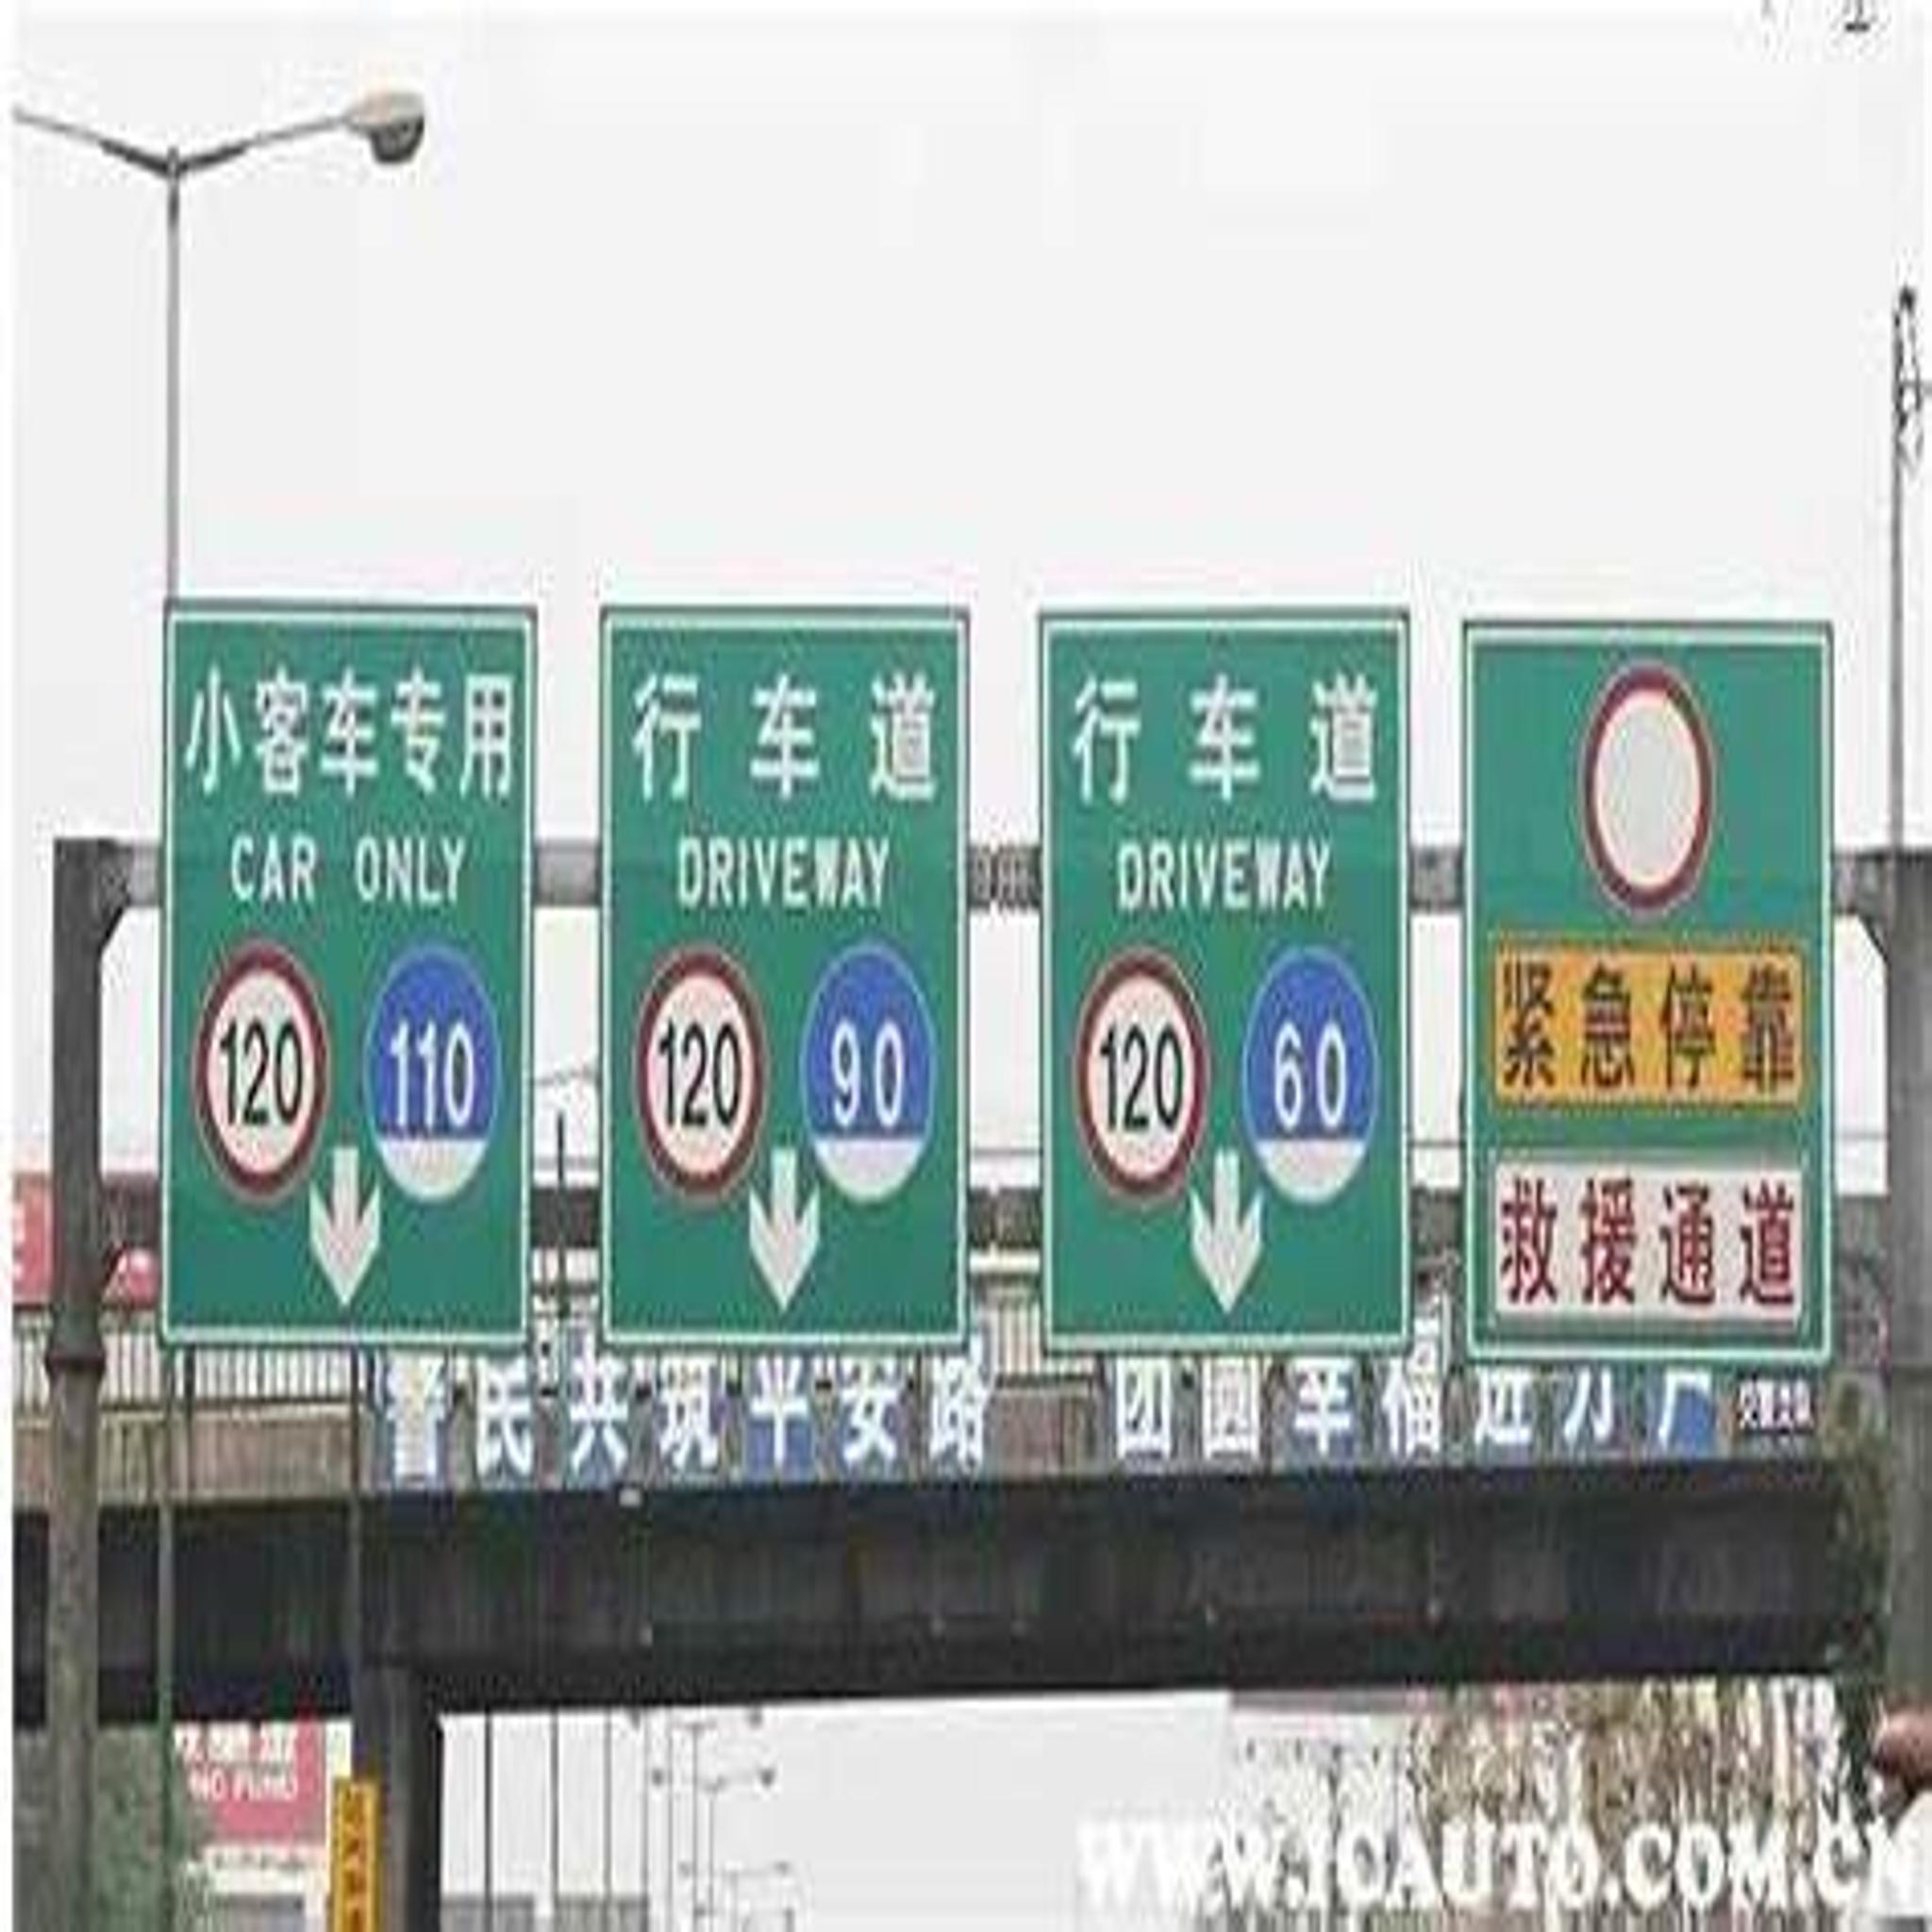il60: (1244, 952, 1385, 1205)
pb: (1580, 662, 1713, 925)
pl120: (188, 943, 311, 1187), (635, 934, 743, 1198), (1072, 955, 1185, 1205)
